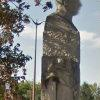Statue: (38, 0, 89, 100)
